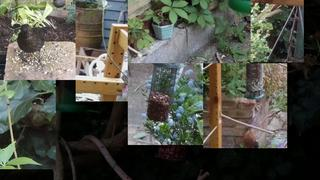blackbird: (16, 24, 52, 68)
